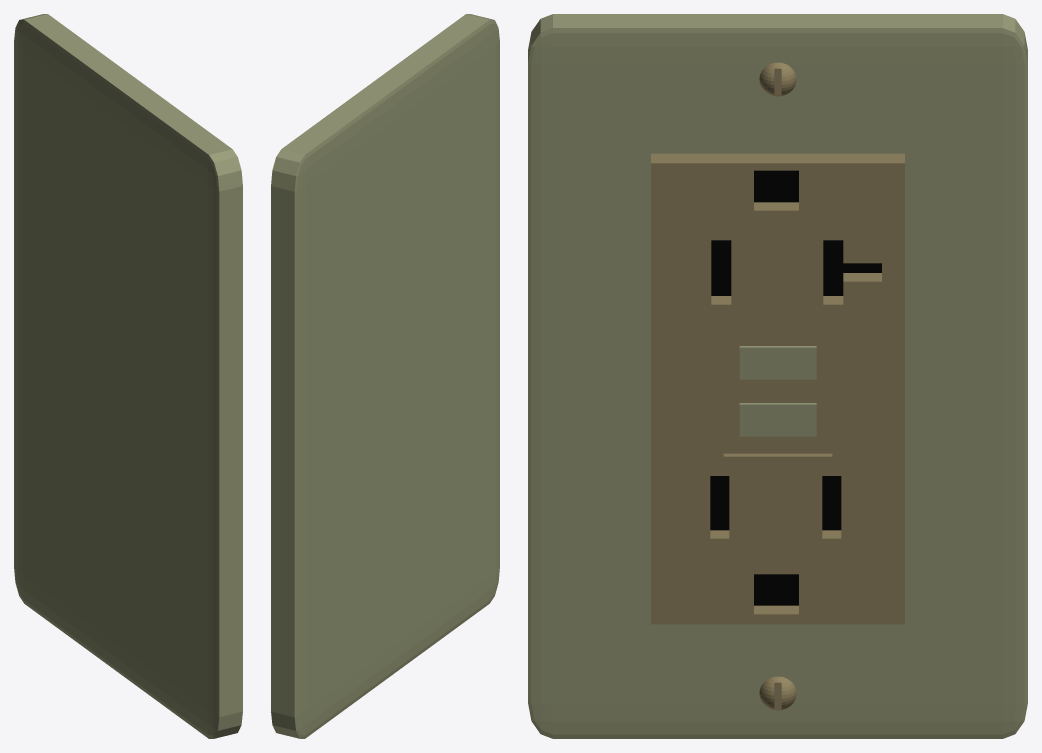
File: wallOutlet.fbx
3 views of the same model, side by side, from view 1: azimuth 30°, elevation 25°; view 2: azimuth 150°, elevation 25°; view 3: azimuth 270°, elevation 25° (orthographic). The views are drawn at different scales.
Visible parts, largest first — view 1: Cube; view 2: Cube; view 3: Cube, Cube.001, Cube.004, Cube.002, Cube.003, Sphere.001, Sphere.
Part boxes in pixels (<box>): Cube: <box>14,14,242,738</box>; Cube: <box>271,14,499,738</box>; Cube: <box>528,14,1027,738</box>; Cube.001: <box>651,153,904,624</box>; Cube.004: <box>710,170,881,605</box>; Cube.002: <box>739,346,816,379</box>; Cube.003: <box>739,403,816,436</box>; Sphere.001: <box>759,676,796,710</box>; Sphere: <box>759,62,796,96</box>.
Size of the model in its own units: 15.13 by 200 by 127.
